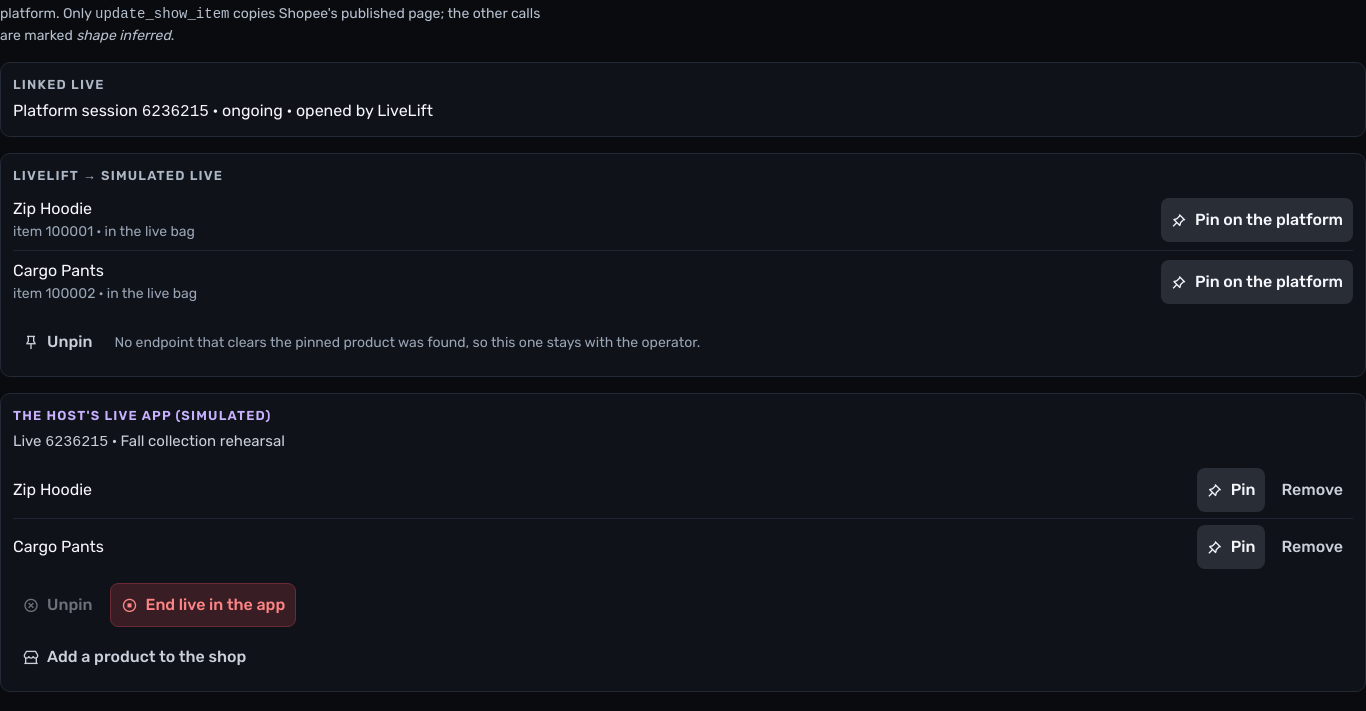
Test case: the platform panel › unpin is honest: no endpoint, so the operator keeps it
The image size is (1366, 711).
Click the button with test id "platform-unpin" at (58, 342), box top-left (13, 320), bottom-right (102, 364)
(page scrolled)
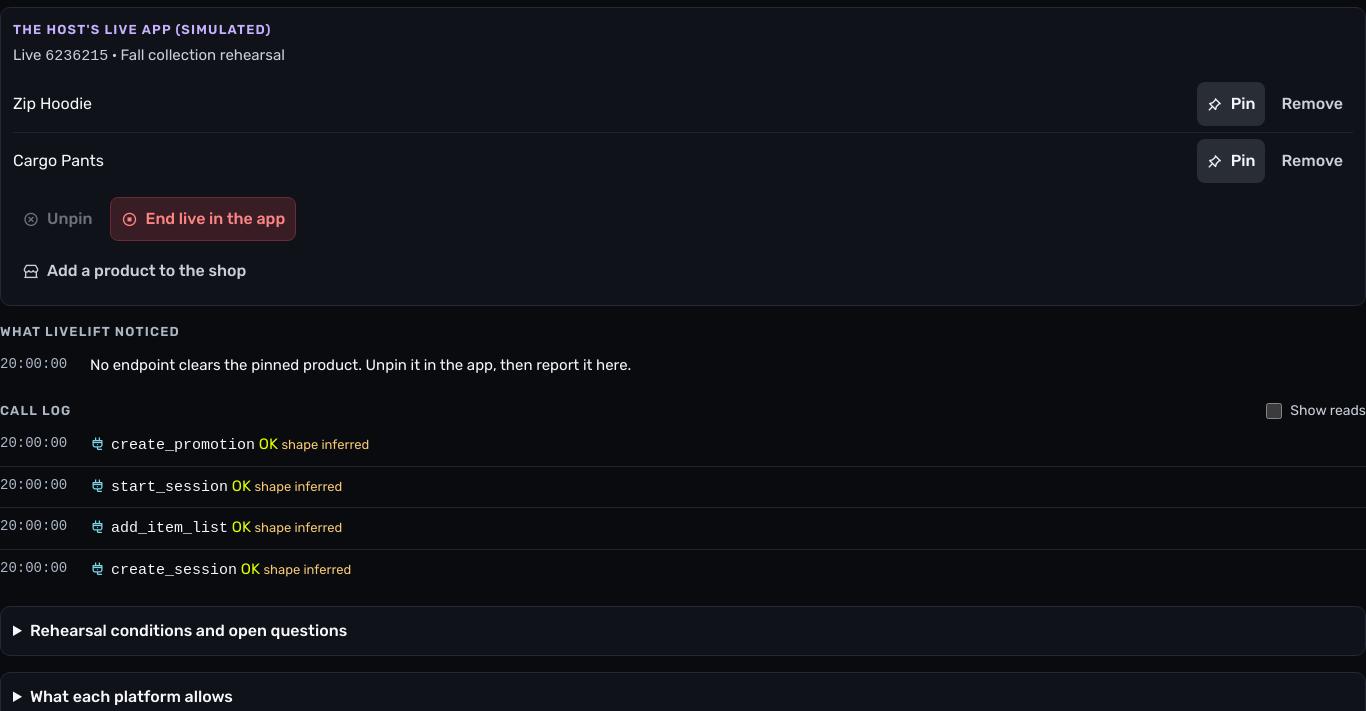
Result: the list with test id "platform-notices" shows "No endpoint clears the pinned product" at top-left (90, 356), bottom-right (631, 374)
